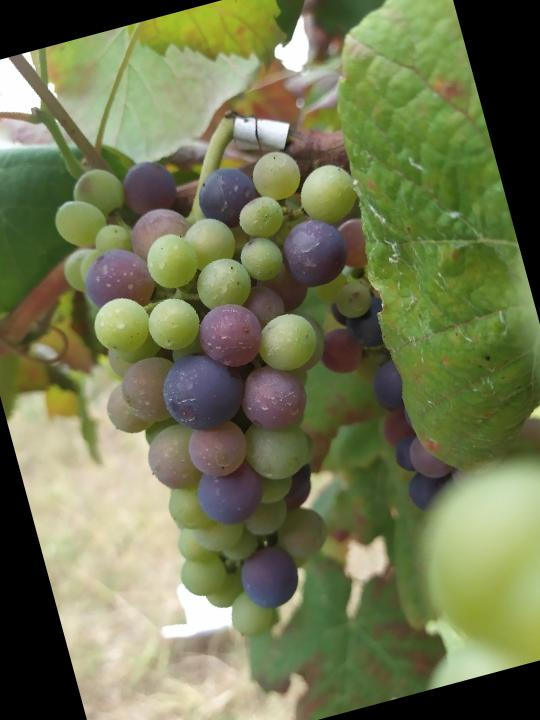grape: (36, 100, 472, 664)
